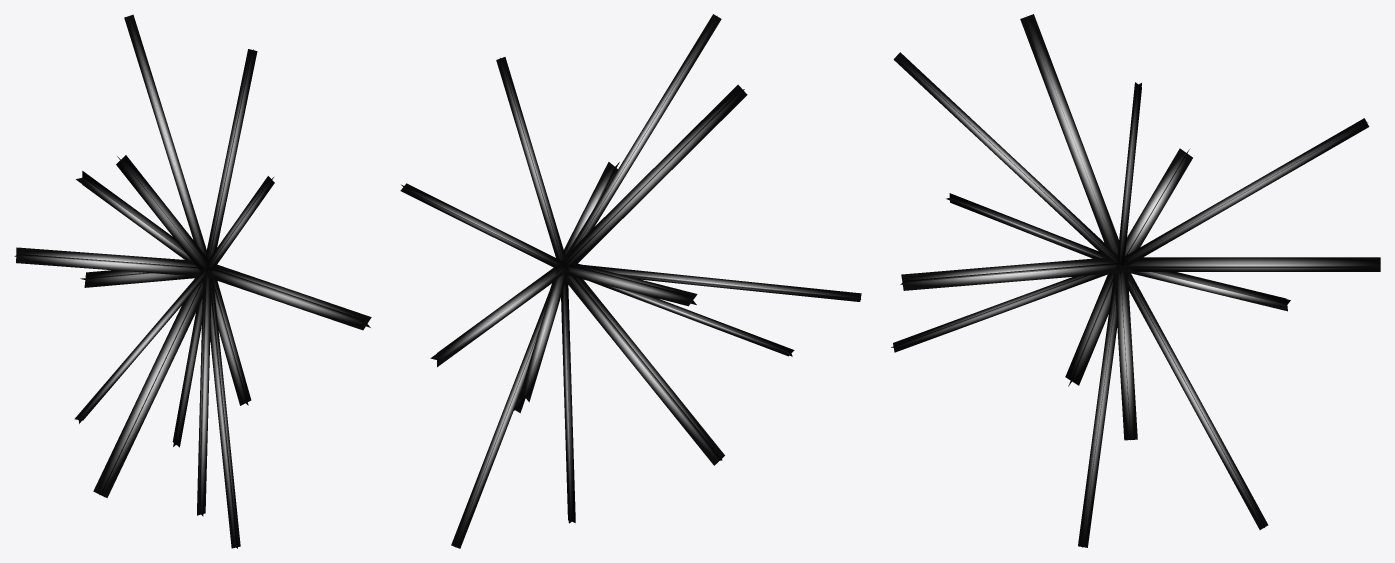
The model's file is vfx_kurp_0515.dae.
The picture shows the model from 3 angles, left to right: view 1: azimuth 30°, elevation 25°; view 2: azimuth 150°, elevation 25°; view 3: azimuth 270°, elevation 25°; orthographic projection. The views are drawn at different scales.
Parts seen in each view (by area): view 1: vfx_kurp_0515; view 2: vfx_kurp_0515; view 3: vfx_kurp_0515.
Part boxes in pixels (bbox=[...]): vfx_kurp_0515: bbox=[14, 14, 371, 548]; vfx_kurp_0515: bbox=[400, 14, 861, 548]; vfx_kurp_0515: bbox=[891, 14, 1380, 547].
Size of the model in its own units: 9.08 by 13.58 by 14.86.
1 material, 1 textured.
